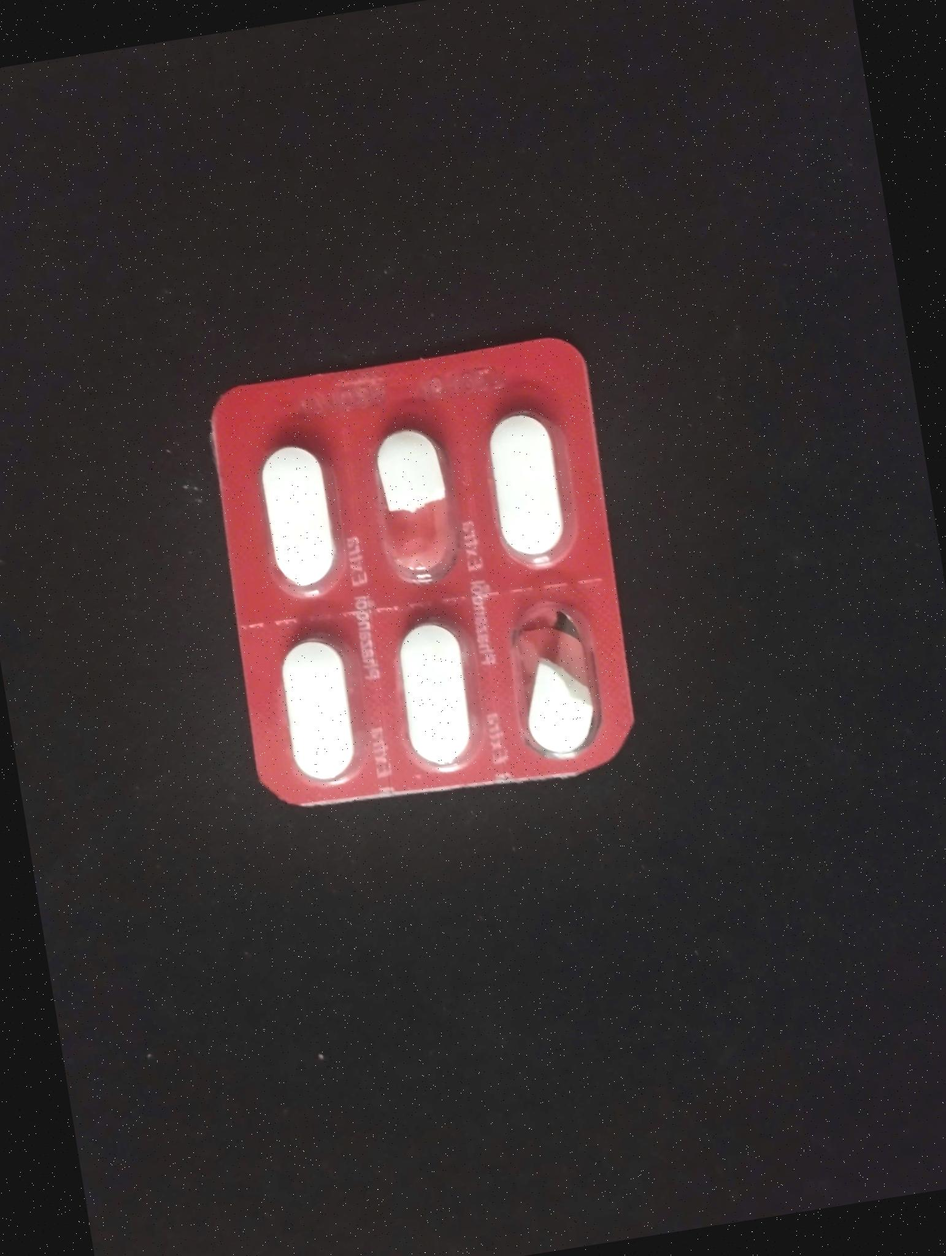Full: (390, 605, 497, 778), (476, 394, 582, 566), (270, 613, 374, 787), (247, 435, 350, 600)
Partial: (365, 415, 480, 587), (494, 601, 605, 765)
